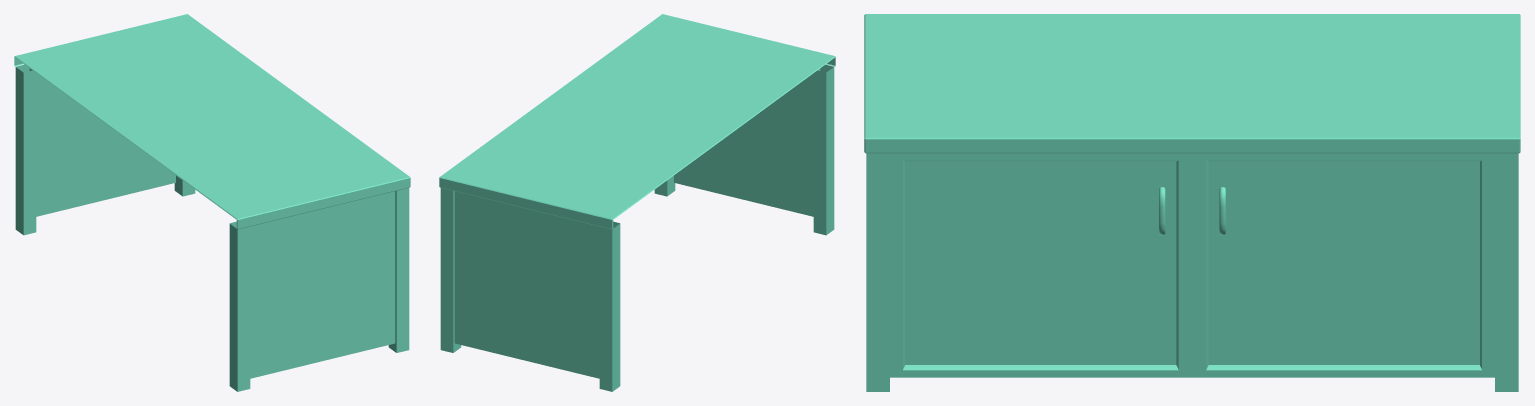
File: G_Cabinet_01.fbx
3 views of the same model, side by side, from view 1: azimuth 30°, elevation 25°; view 2: azimuth 150°, elevation 25°; view 3: azimuth 270°, elevation 25° (orthographic). The views are drawn at different scales.
Parts seen in each view (by area): view 1: cabinet.001; view 2: cabinet.001; view 3: cabinet.001.
Boxes of the visible parts, bbox=[...] form: cabinet.001: bbox=[14, 14, 410, 391]; cabinet.001: bbox=[439, 14, 835, 391]; cabinet.001: bbox=[864, 14, 1520, 391].
Size of the model in its own units: 1055 by 1000 by 2338.
